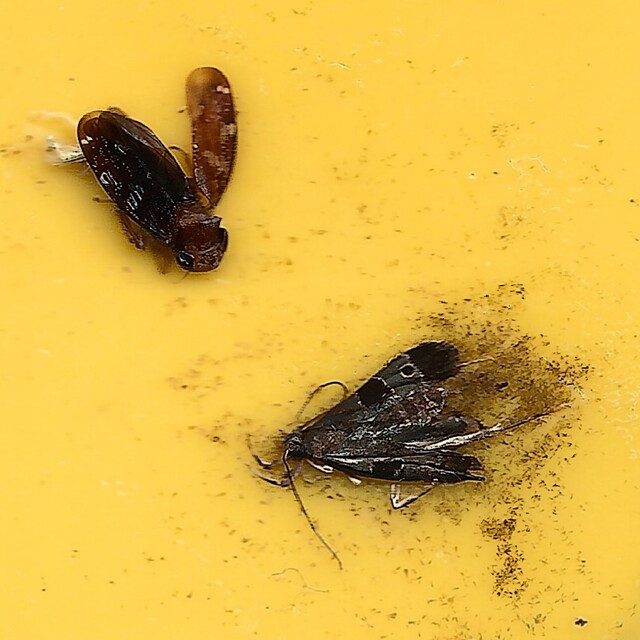Hemiptera: (75, 65, 240, 276)
Lepidoptera: (247, 338, 565, 575)
